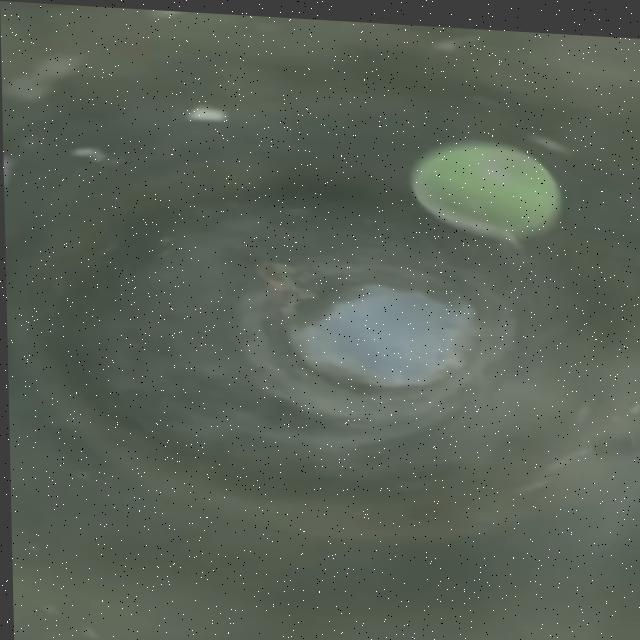balloon: (409, 130, 557, 231)
